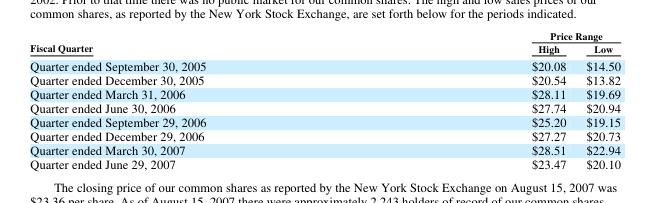table: (29, 28, 620, 171)
table column: (29, 28, 368, 171), (368, 28, 575, 171), (575, 28, 620, 171)
table column header: (29, 28, 620, 56)
table row: (29, 56, 620, 72), (29, 156, 620, 171), (29, 28, 620, 42), (29, 42, 620, 56), (29, 72, 620, 86), (29, 86, 620, 100), (29, 100, 620, 114), (29, 114, 620, 128), (29, 128, 620, 142), (29, 142, 620, 156)
table spanning cell: (29, 28, 368, 56), (368, 28, 620, 42)
